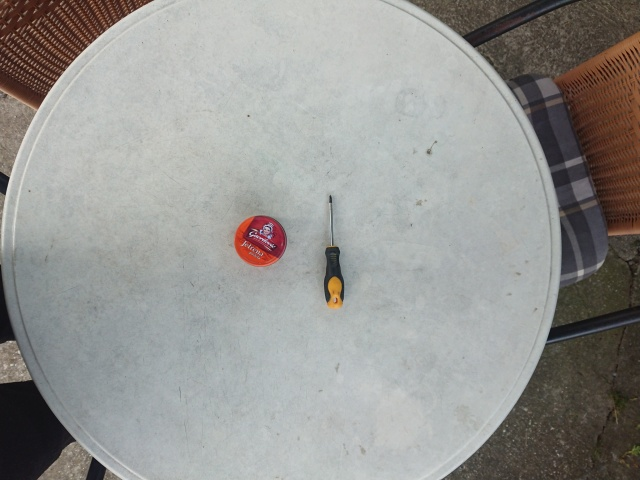Gavrilovic Pork Liver Pate 100g: (232, 213, 288, 267)
